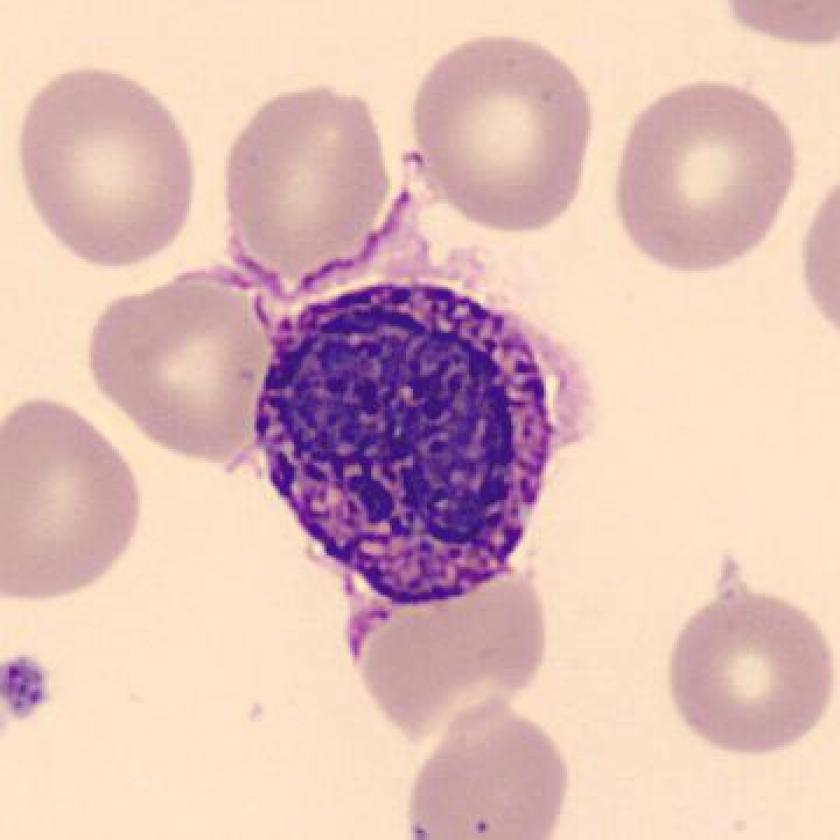basophil: (255, 276, 568, 605)
